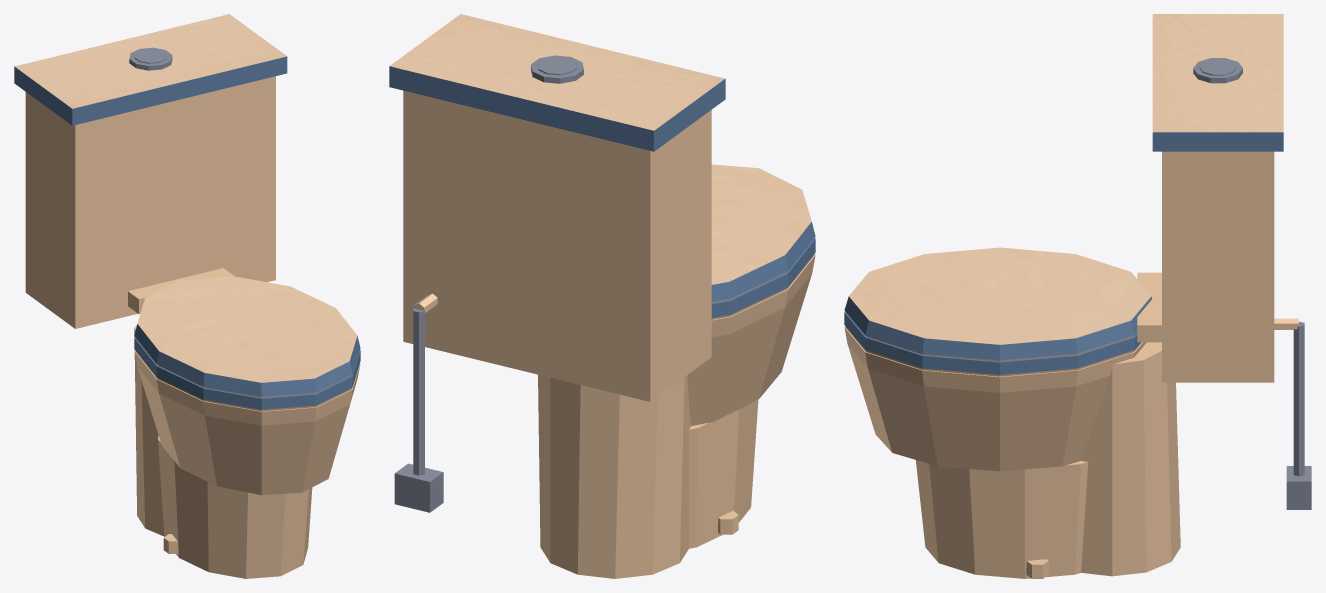
The model's file is Toilet.fbx.
3 renders of one model, left to right at view 1: azimuth 30°, elevation 25°; view 2: azimuth 150°, elevation 25°; view 3: azimuth 270°, elevation 25°, orthographic. The views are drawn at different scales.
Visible parts, largest first — view 1: Toilet; view 2: Toilet; view 3: Toilet.
Boxes of the visible parts, bbox=[...] form: Toilet: bbox=[14, 14, 360, 578]; Toilet: bbox=[389, 14, 815, 578]; Toilet: bbox=[844, 14, 1311, 578].
Size of the model in its own units: 0.45 by 0.851 by 0.75.
Materials: 1 (1 with a texture image).
